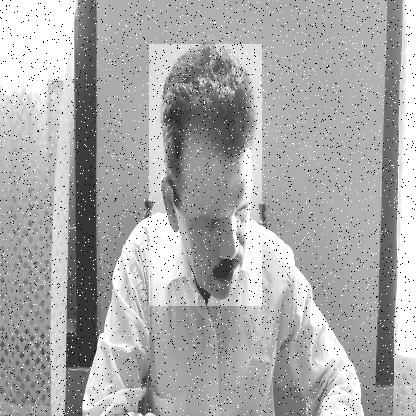Distracted: (149, 44, 262, 306)
